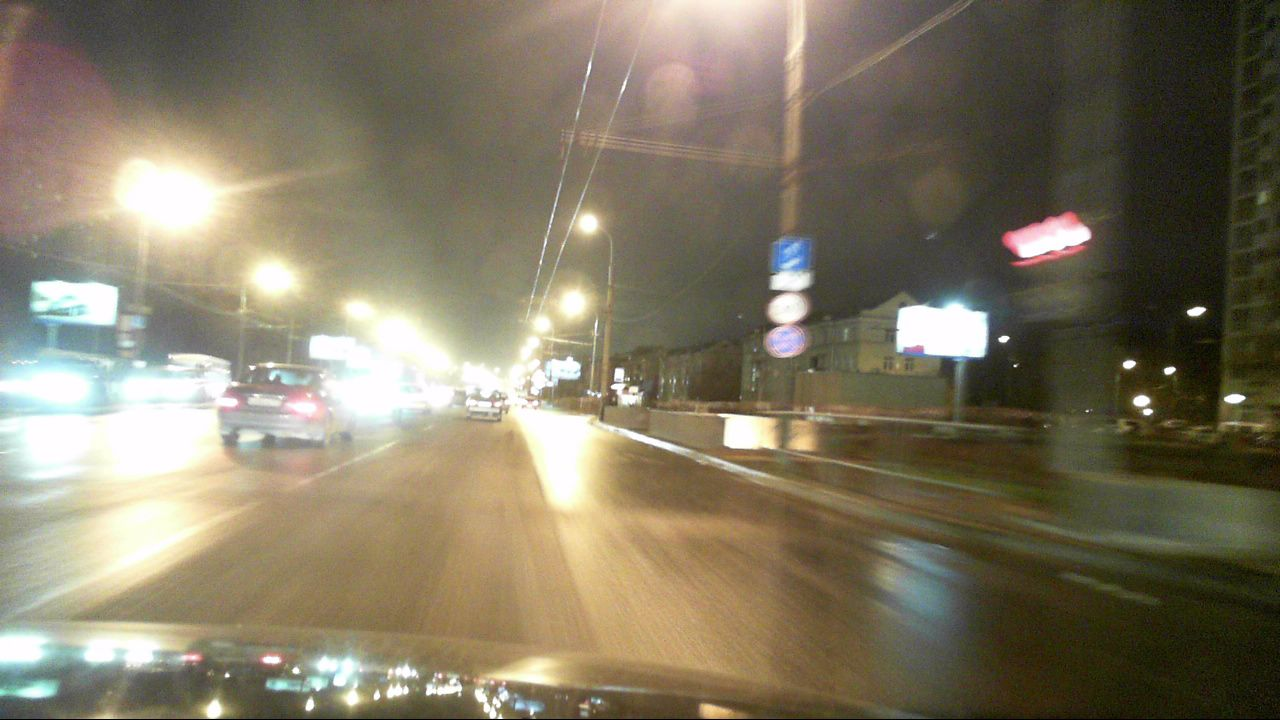No Parking: (771, 323, 807, 360)
